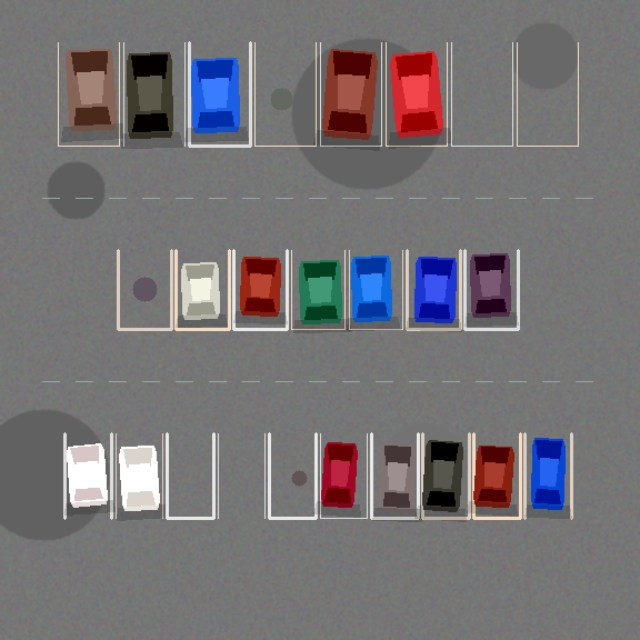space-empty: (254, 42, 316, 146), (451, 42, 512, 146), (517, 42, 578, 146), (118, 250, 171, 329), (269, 433, 316, 518), (167, 433, 213, 518), (218, 433, 264, 518)
space-occupied: (58, 42, 119, 146), (123, 42, 184, 146), (189, 42, 250, 146), (320, 42, 381, 146), (386, 42, 447, 146), (233, 250, 287, 329), (464, 250, 518, 329), (176, 250, 229, 329), (291, 250, 344, 329), (349, 250, 402, 329), (407, 250, 460, 329), (64, 433, 111, 518), (320, 433, 367, 518), (371, 433, 418, 518), (422, 433, 469, 518), (473, 433, 520, 518), (524, 433, 571, 518), (116, 433, 162, 518)
